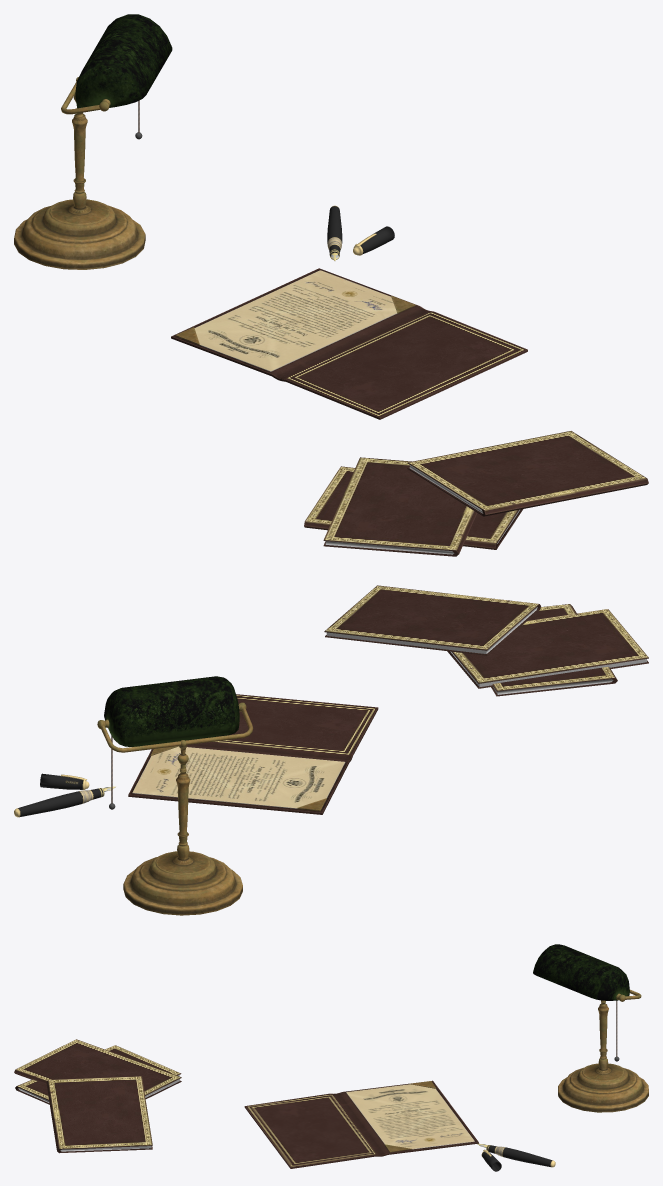
The model's file is DocumentosJefe.fbx.
3 renders of one model, top to bottom at view 1: azimuth 30°, elevation 25°; view 2: azimuth 150°, elevation 25°; view 3: azimuth 270°, elevation 25°, orthographic. The views are drawn at different scales.
Parts seen in each view (by area): view 1: defaultMaterial.010, defaultMaterial.007; view 2: defaultMaterial.010, defaultMaterial.007; view 3: defaultMaterial.010, defaultMaterial.007.
Part boxes in pixels (x1=…): defaultMaterial.010: x1=171, y1=205, x2=648, y2=556; defaultMaterial.007: x1=14, y1=14, x2=172, y2=269; defaultMaterial.010: x1=14, y1=585, x2=648, y2=817; defaultMaterial.007: x1=97, y1=676, x2=253, y2=915; defaultMaterial.010: x1=14, y1=1039, x2=555, y2=1171; defaultMaterial.007: x1=533, y1=944, x2=648, y2=1112.
Bounding box in the file's own units: 122 × 66.25 × 260.
Materials: 1 (1 with a texture image).
